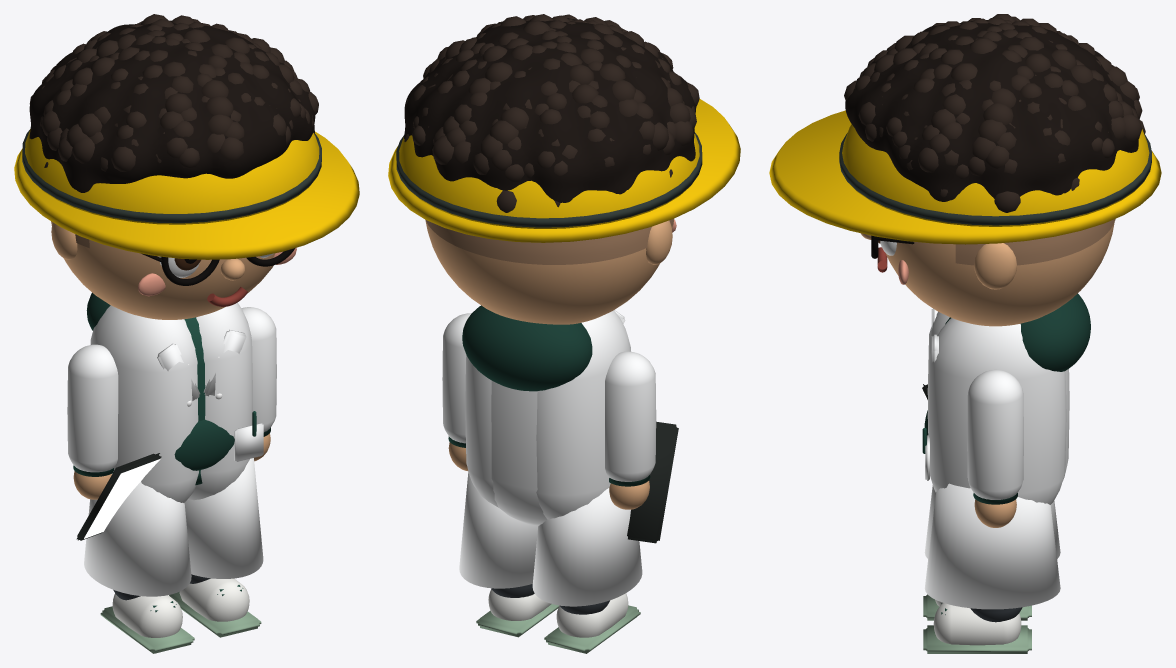
The model's file is character.glb.
3 renders of one model, left to right at view 1: azimuth 30°, elevation 25°; view 2: azimuth 150°, elevation 25°; view 3: azimuth 270°, elevation 25°, orthographic. The views are drawn at different scales.
Parts seen in each view (by area): view 1: HairTopMesh, CoatMesh, HelmetMesh, BodyMesh, HeadMesh, CoatSleeveLMesh, CoatSleeveRMesh, TabletMesh, GlassesMesh, ArmLMesh, EyesMesh; view 2: HairTopMesh, CoatMesh, HelmetMesh, HeadMesh, BodyMesh, CoatSleeveLMesh, TabletMesh, CoatSleeveRMesh, ArmLMesh; view 3: HairTopMesh, CoatMesh, HelmetMesh, HeadMesh, BodyMesh, CoatSleeveRMesh, ArmRMesh.
Part boxes in pixels (x1,y1,x2,y2): HairTopMesh: (29,14,318,192); CoatMesh: (84,302,263,596); HelmetMesh: (14,129,359,259); BodyMesh: (86,292,261,653); HeadMesh: (51,221,296,319); CoatSleeveLMesh: (67,344,118,472); CoatSleeveRMesh: (241,307,276,432); TabletMesh: (76,453,161,540); GlassesMesh: (141,248,295,285); ArmLMesh: (73,465,113,499); EyesMesh: (158,253,273,277); HairTopMesh: (404,14,699,212); CoatMesh: (459,310,642,606); HelmetMesh: (388,99,740,242); HeadMesh: (425,219,676,324); BodyMesh: (462,305,640,653); CoatSleeveLMesh: (605,351,656,481); TabletMesh: (627,421,678,543); CoatSleeveRMesh: (442,313,471,443); ArmLMesh: (609,475,650,509); HairTopMesh: (844,14,1145,212); CoatMesh: (922,308,1069,609); HelmetMesh: (769,110,1161,244); HeadMesh: (861,219,1115,326); BodyMesh: (923,293,1090,653); CoatSleeveRMesh: (967,369,1023,499); ArmRMesh: (973,493,1017,527).
Size of the model in its own units: 1.12 by 2.2 by 1.3.
